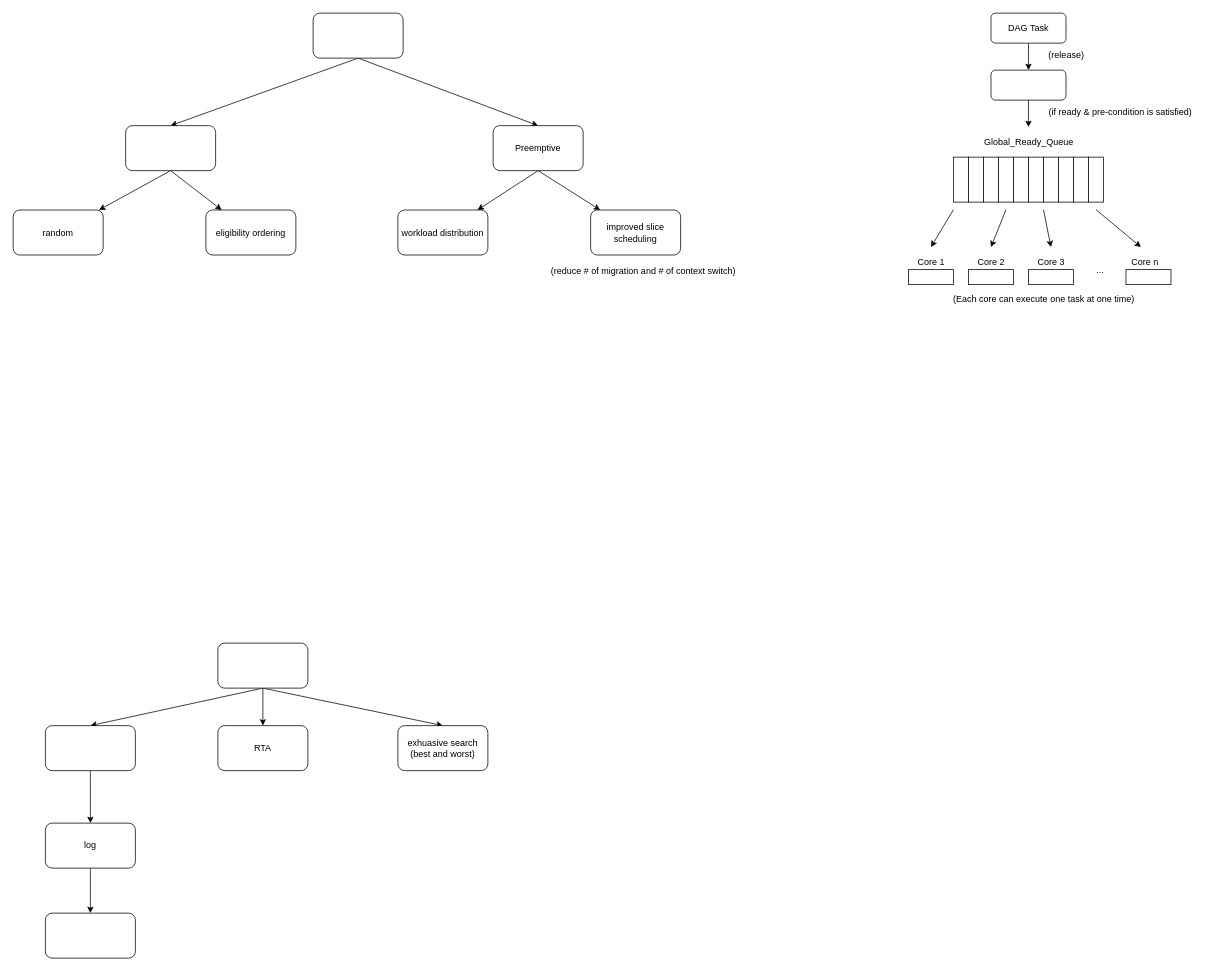
This 1212x971 diagram has some shape labels left out. The centre of each missing label's shape, as x and y in pixels:
Jobs: [1028,84]
Non-preemptive (Limited-preemptive): [170,148]
plot: [90,935]
random generated DAG: [262,665]
scheduling policy: [357,35]
simulation: [90,748]
